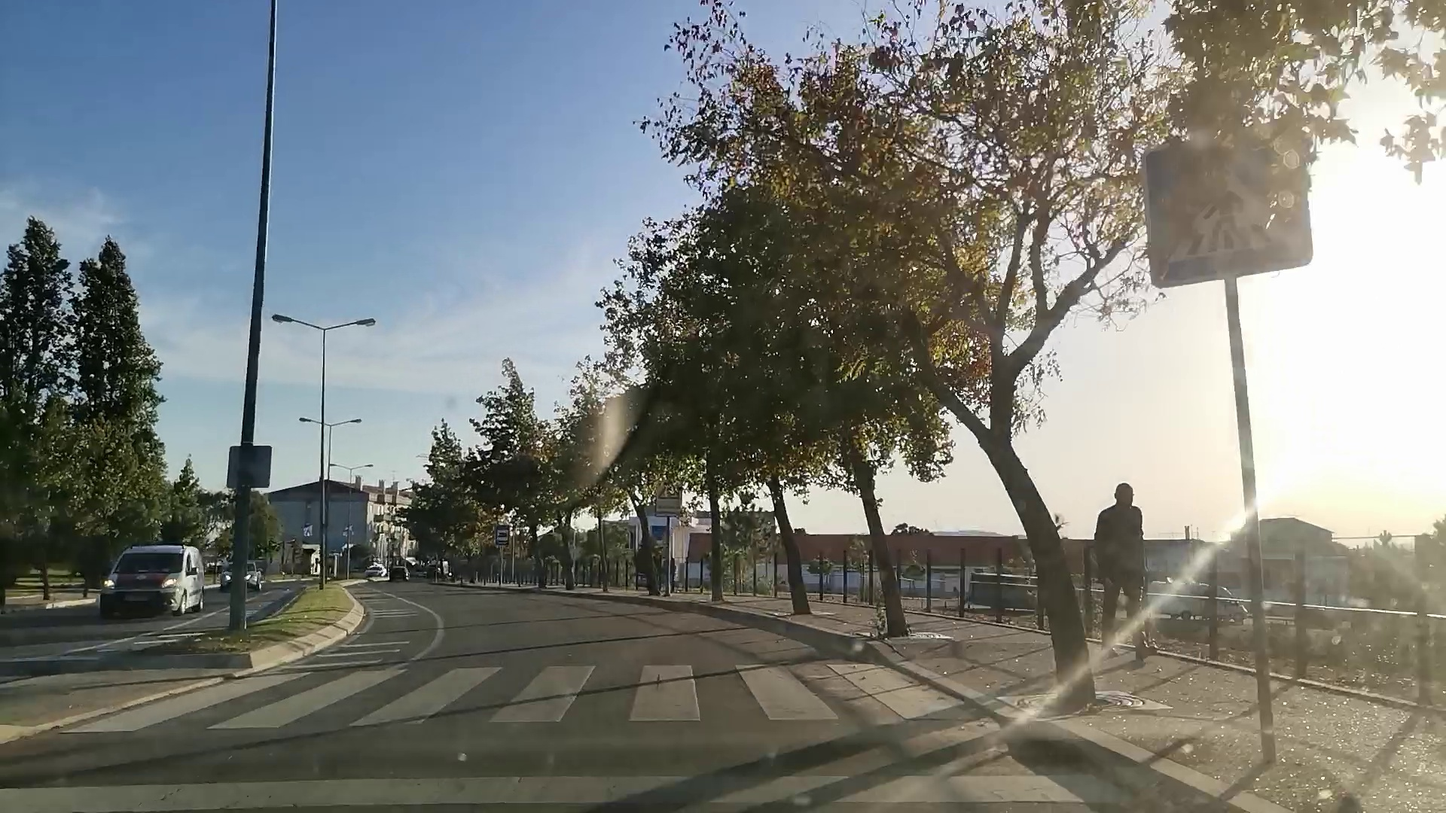Stairs: (119, 666, 1035, 800)
